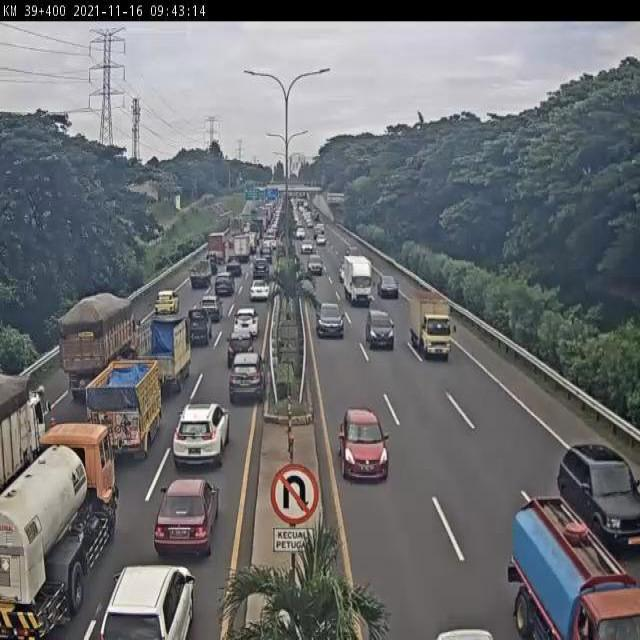car: (559, 437, 640, 548), (97, 556, 201, 640), (152, 476, 219, 560), (337, 404, 393, 485), (166, 405, 228, 472), (222, 351, 270, 412), (222, 332, 259, 376), (365, 311, 395, 353), (316, 298, 345, 338), (191, 295, 225, 328), (230, 309, 261, 342), (152, 286, 183, 318), (245, 277, 273, 307), (186, 263, 212, 293), (206, 276, 232, 304), (304, 249, 328, 279), (222, 253, 244, 284), (380, 273, 399, 299), (249, 260, 270, 283), (255, 248, 276, 268)
small truck: (511, 490, 637, 640), (400, 284, 441, 341), (341, 256, 372, 305), (180, 311, 214, 353), (229, 235, 250, 269)
truck-l-: (58, 296, 140, 393), (0, 369, 51, 491)
truck-m-: (0, 417, 124, 640), (88, 356, 164, 456), (126, 316, 191, 400)
